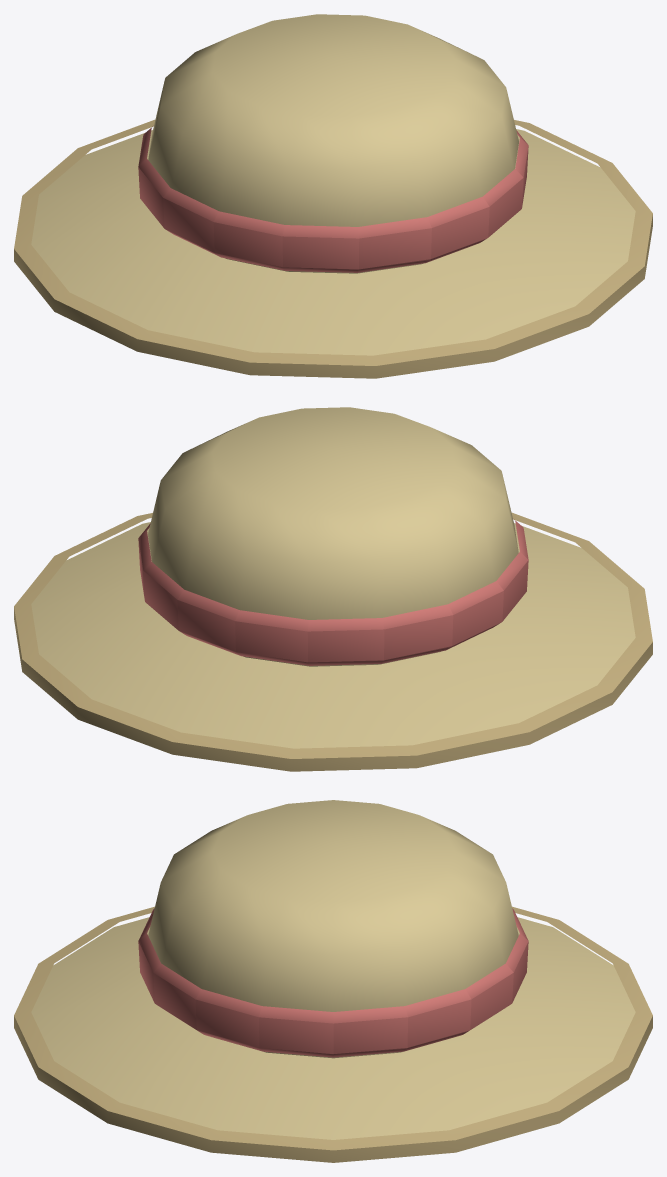
Rendered from straw_hat.gltf.
3 views of the same model, one above another, from view 1: azimuth 30°, elevation 25°; view 2: azimuth 150°, elevation 25°; view 3: azimuth 270°, elevation 25° (orthographic).
Visible parts, largest first — view 1: straw_hat; view 2: straw_hat; view 3: straw_hat.
Boxes of the visible parts, x1,y1,x2,y2 form: straw_hat: (14, 14, 652, 378); straw_hat: (14, 407, 652, 771); straw_hat: (14, 800, 652, 1162).
Size of the model in its own units: 0.74 by 0.244 by 0.74.
